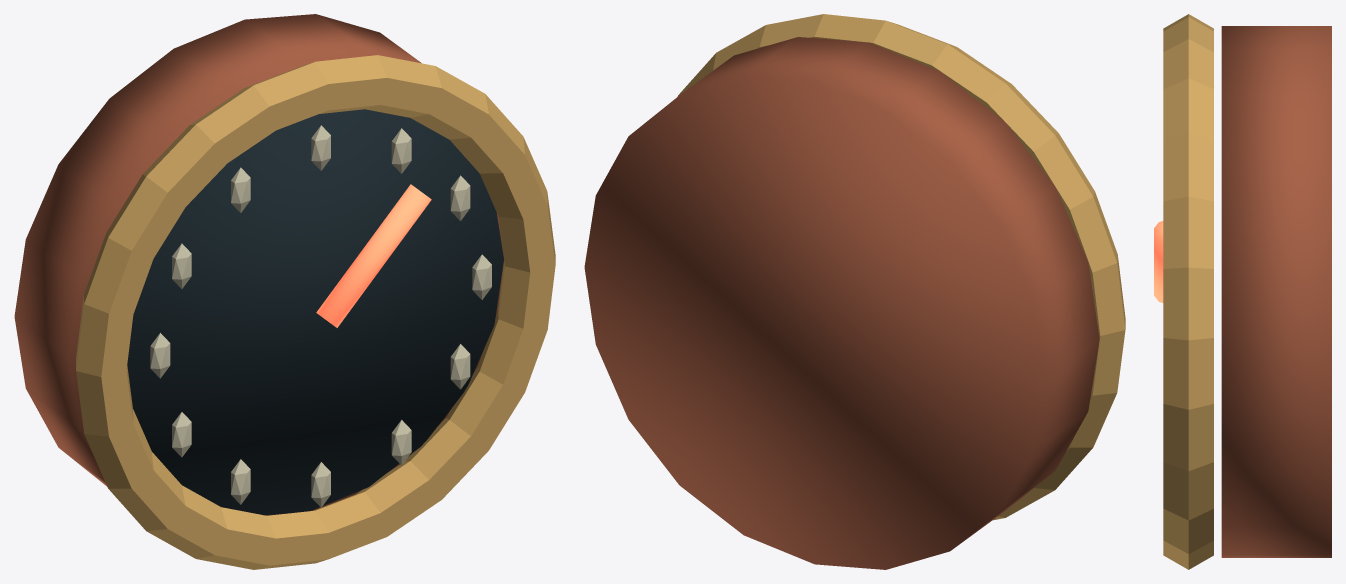
Rendered from relic-pressureDial.glb.
3 views of the same model, side by side, from view 1: azimuth 30°, elevation 25°; view 2: azimuth 150°, elevation 25°; view 3: azimuth 270°, elevation 25° (orthographic).
Parts seen in each view (by area): view 1: relic-pressureDial / Rubber | dark insets, relic-pressureDial / Brass | machined champagne, relic-pressureDial / Copper | patinated oxblood, relic-pressureDial / Ceramic | warm ivory, relic-pressureDial / Lamp | coral red; view 2: relic-pressureDial / Copper | patinated oxblood, relic-pressureDial / Brass | machined champagne; view 3: relic-pressureDial / Copper | patinated oxblood, relic-pressureDial / Brass | machined champagne, relic-pressureDial / Lamp | coral red.
Boxes of the visible parts, x1,y1,x2,y2 form: relic-pressureDial / Rubber | dark insets: [127, 109, 503, 515]; relic-pressureDial / Brass | machined champagne: [76, 55, 555, 569]; relic-pressureDial / Copper | patinated oxblood: [14, 14, 504, 515]; relic-pressureDial / Ceramic | warm ivory: [150, 125, 491, 507]; relic-pressureDial / Lamp | coral red: [316, 184, 431, 327]; relic-pressureDial / Copper | patinated oxblood: [584, 37, 1099, 569]; relic-pressureDial / Brass | machined champagne: [677, 14, 1125, 520]; relic-pressureDial / Copper | patinated oxblood: [1221, 26, 1331, 557]; relic-pressureDial / Brass | machined champagne: [1163, 14, 1213, 569]; relic-pressureDial / Lamp | coral red: [1154, 221, 1163, 302].
Size of the model in its own units: 1.52 by 1.52 by 0.4842.
